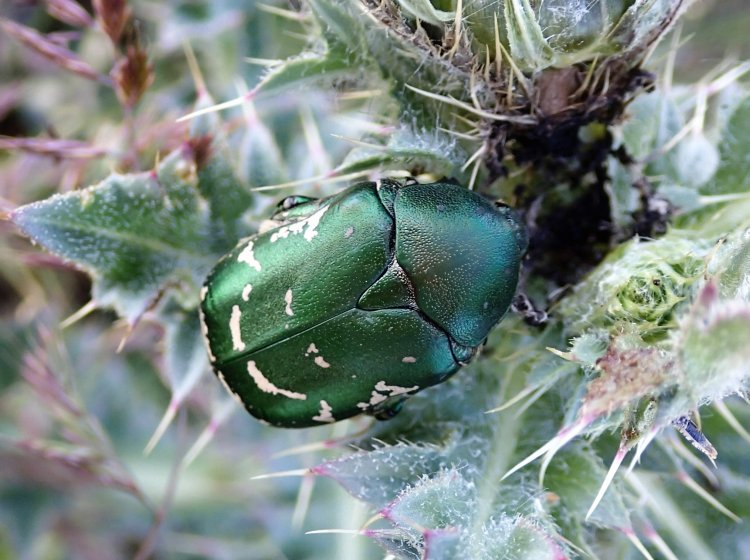Protaetia_ungarica: (194, 165, 541, 439)
